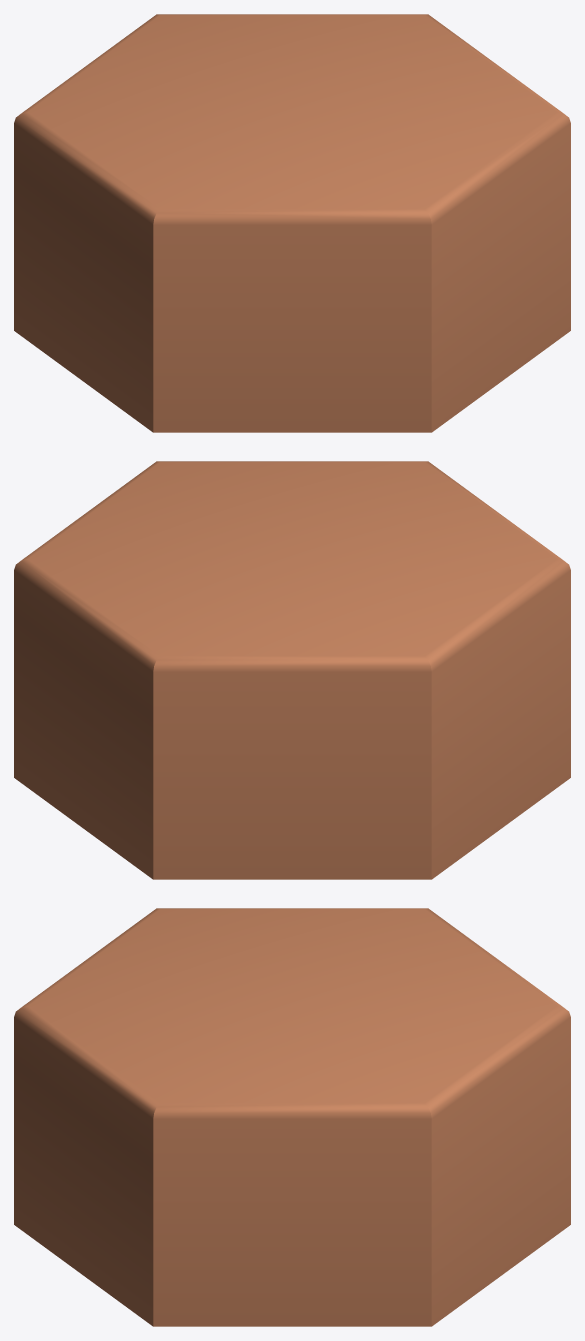
The model's file is hex_rock.glb.
3 renders of one model, top to bottom at view 1: azimuth 30°, elevation 25°; view 2: azimuth 150°, elevation 25°; view 3: azimuth 270°, elevation 25°, orthographic.
Visible parts, largest first — view 1: hex_rock; view 2: hex_rock; view 3: hex_rock.
Part boxes in pixels (box(x1,y1,x2,y2)): hex_rock: box(14, 14, 570, 432); hex_rock: box(14, 461, 570, 879); hex_rock: box(14, 908, 570, 1326).
Bounding box in the file's own units: 2 × 1 × 2.31.
